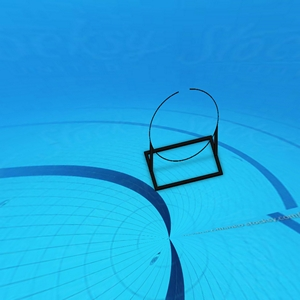circle: (140, 84, 227, 195)
